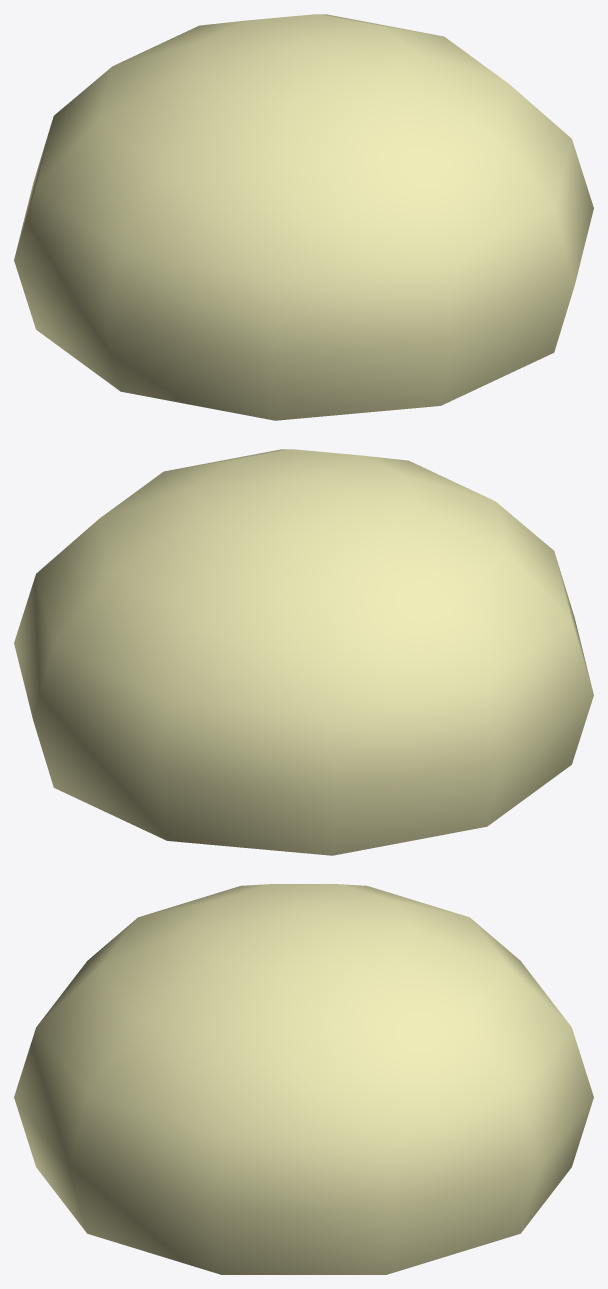
File: Dough.fbx
3 renders of one model, top to bottom at view 1: azimuth 30°, elevation 25°; view 2: azimuth 150°, elevation 25°; view 3: azimuth 270°, elevation 25°, orthographic. The views are drawn at different scales.
Parts seen in each view (by area): view 1: Sphere; view 2: Sphere; view 3: Sphere.
Boxes of the visible parts, x1=… form: Sphere: x1=14, y1=14, x2=593, y2=420; Sphere: x1=14, y1=449, x2=593, y2=855; Sphere: x1=14, y1=884, x2=593, y2=1274.
Bounding box in the file's own units: 116 × 58.64 × 122.
